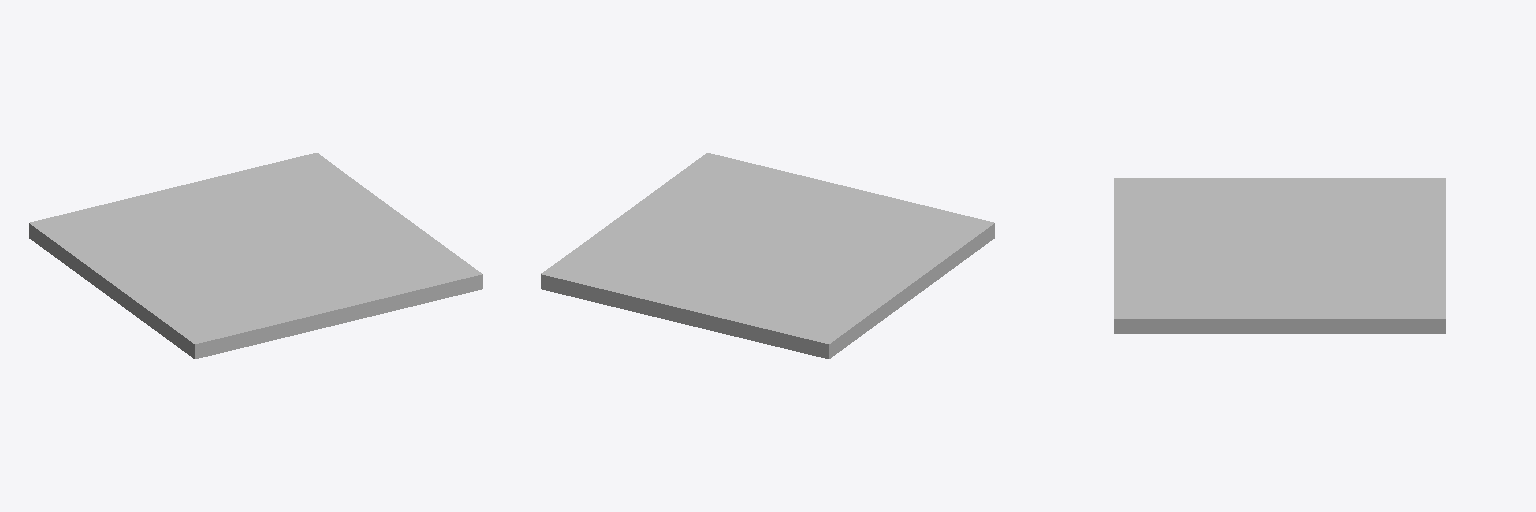
File: imagepanel.obj
3 renders of one model, left to right at view 1: azimuth 30°, elevation 25°; view 2: azimuth 150°, elevation 25°; view 3: azimuth 270°, elevation 25°, orthographic.
Parts seen in each view (by area): view 1: obj25, obj14, obj7, obj18, obj16, obj1, obj17, obj15, obj22, obj13, obj20, obj11 (+15 smaller); view 2: obj25, obj14, obj1, obj11, obj7, obj4, obj16, obj17, obj15, obj22, obj3, obj18 (+14 smaller); view 3: obj25, obj14, obj11, obj13, obj17, obj7, obj15, obj22, obj16, obj6, obj18, obj2 (+16 smaller).
Boxes of the visible parts, box(x1,y1,x2,y2) form: obj25: box(345, 234, 454, 301); obj14: box(246, 214, 334, 278); obj7: box(91, 238, 165, 303); obj18: box(170, 307, 245, 358); obj16: box(120, 283, 206, 340); obj1: box(29, 212, 98, 282); obj17: box(194, 269, 295, 308); obj15: box(154, 246, 246, 285); obj22: box(275, 246, 346, 302); obj13: box(311, 194, 395, 235); obj20: box(295, 287, 362, 334); obj11: box(252, 153, 353, 192); obj25: box(653, 161, 759, 216); obj14: box(671, 226, 821, 261); obj1: box(785, 299, 891, 358); obj11: box(541, 246, 633, 303); obj7: box(805, 269, 920, 312); obj4: box(603, 281, 696, 326); obj16: box(877, 236, 969, 291); obj17: box(815, 206, 914, 251); obj15: box(768, 242, 889, 276); obj22: box(723, 203, 858, 231); obj3: box(697, 298, 772, 342); obj18: box(896, 210, 994, 255); obj25: box(1114, 281, 1243, 333); obj14: box(1209, 235, 1333, 289); obj11: box(1352, 280, 1445, 333); obj13: box(1246, 286, 1351, 333); obj17: box(1148, 200, 1242, 239); obj7: box(1260, 178, 1357, 211); obj15: box(1233, 194, 1307, 245); obj22: box(1148, 236, 1257, 280); obj16: box(1165, 178, 1262, 206); obj6: box(1334, 219, 1416, 261); obj18: box(1114, 178, 1180, 213); obj2: box(1356, 190, 1445, 217).
Bounding box in the file's own units: 2 × 0.1 × 2.